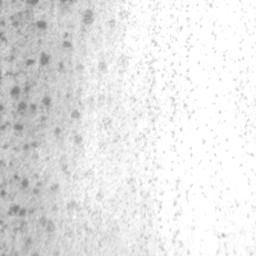Pitted surface: (0, 0, 201, 256)
